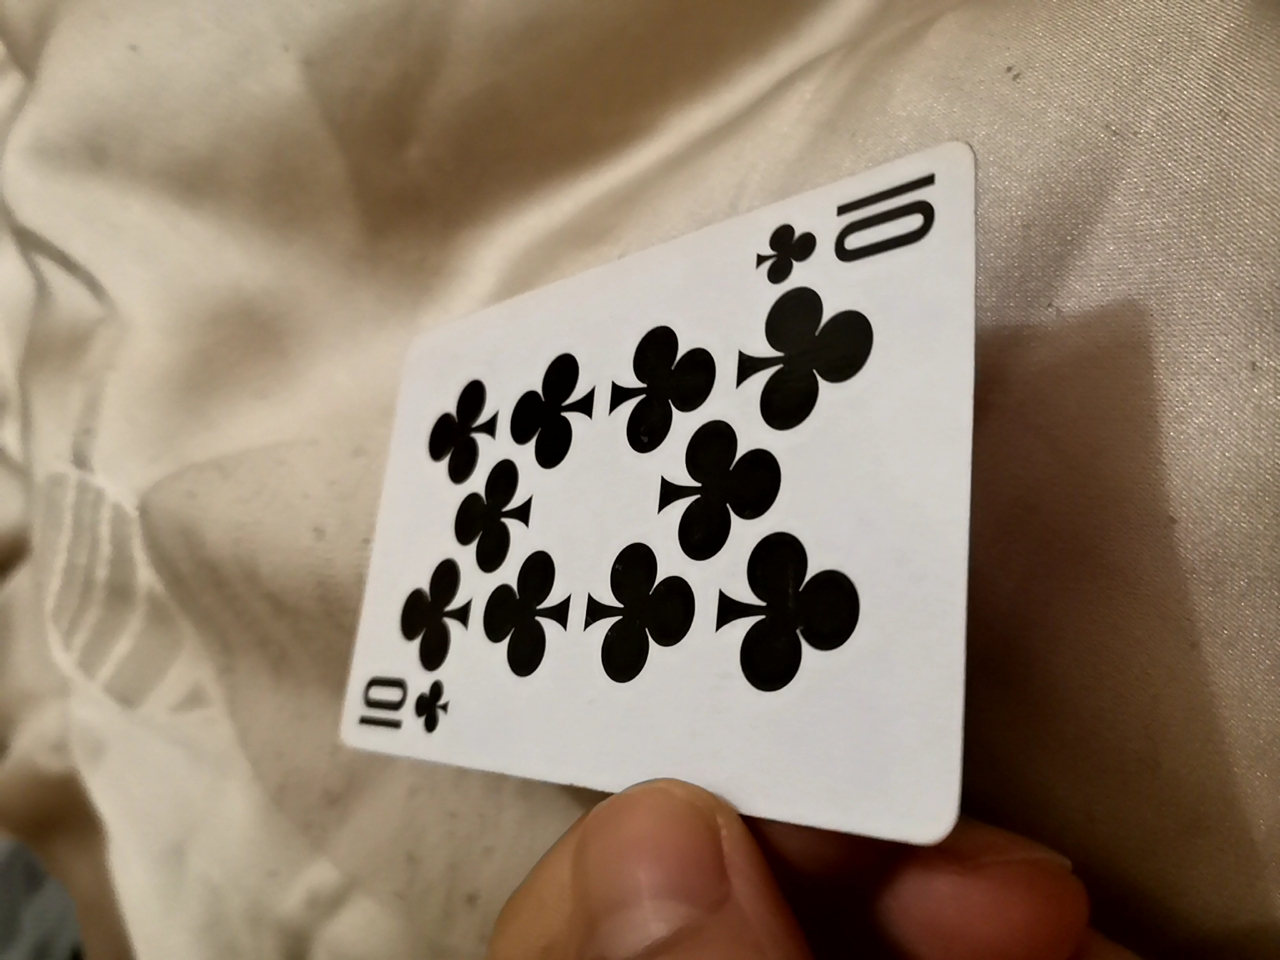mh 10: (351, 144, 977, 859)
